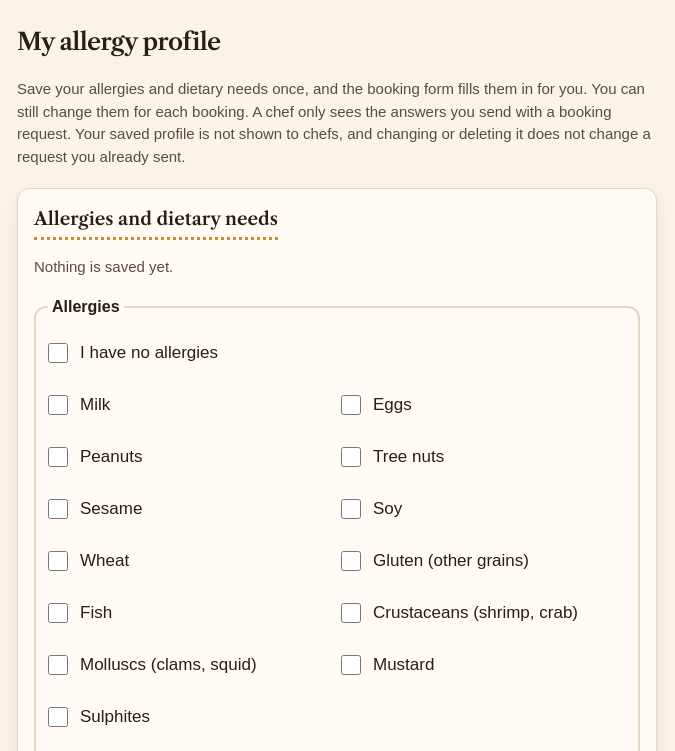
Test: SavedIntakeView › saves a new profile with PUT and says so in a status message that takes focus
The width and height of the screenshot is (675, 751).
Click the checkbox labelled "I have no allergies": (58, 352) left=48, top=342, right=68, bottom=362
(page scrolled)
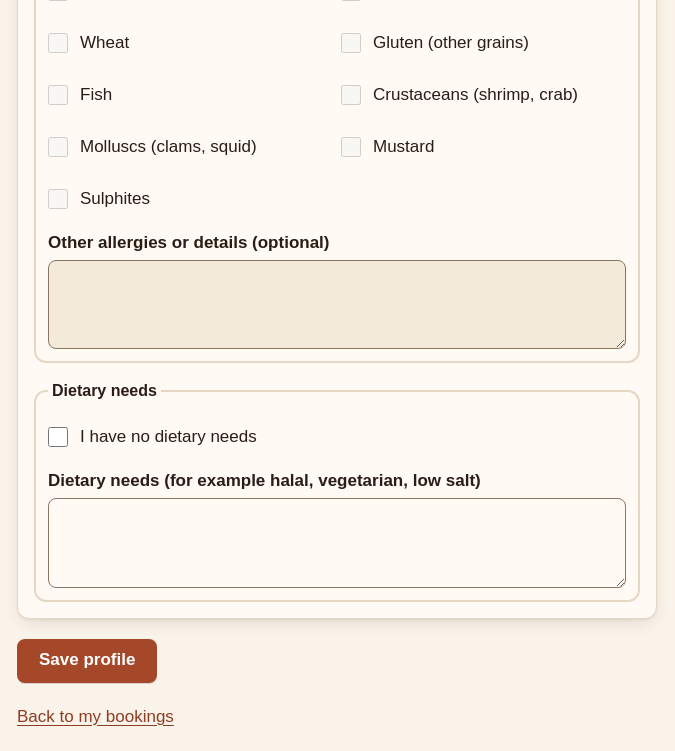
Click the checkbox labelled "I have no dietary needs": (58, 437) left=48, top=427, right=68, bottom=447
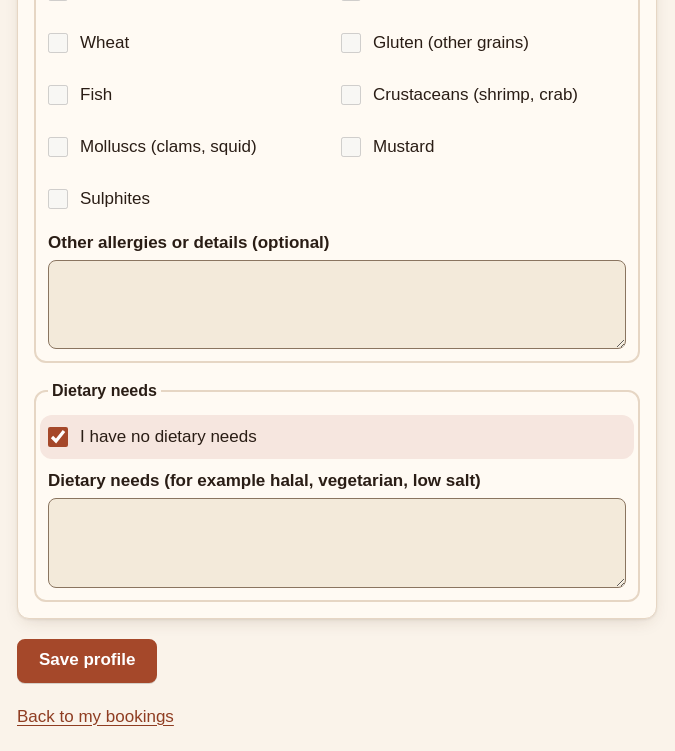
Click the button "Save profile": (87, 661) left=17, top=639, right=157, bottom=683
(page scrolled)
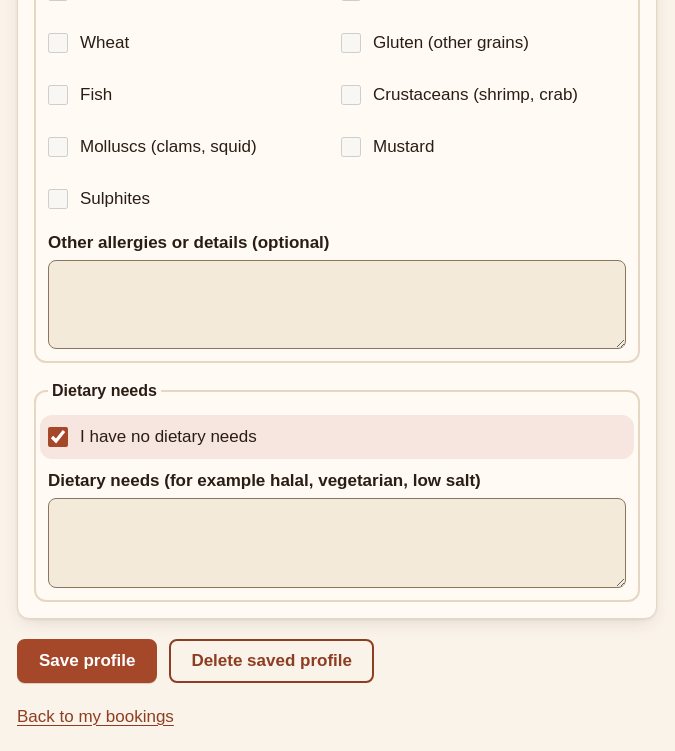
Now the button "Delete saved profile" is shown, box left=169, top=639, right=374, bottom=683
